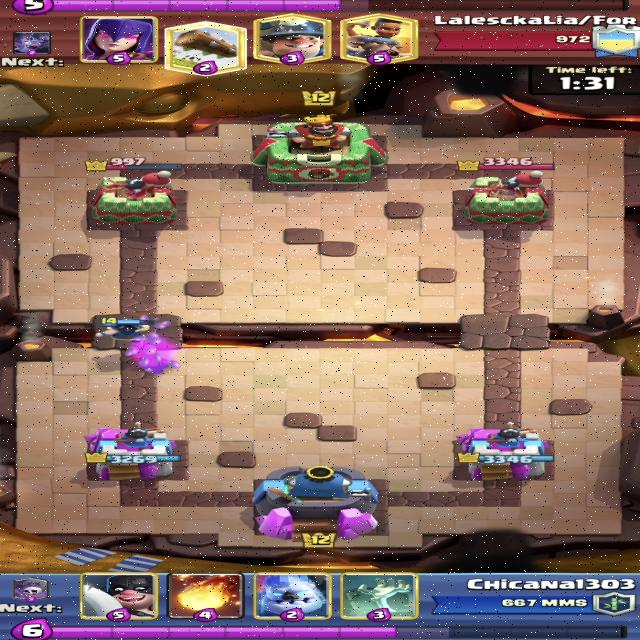Player-ElectroWizard: (96, 317, 156, 342)
